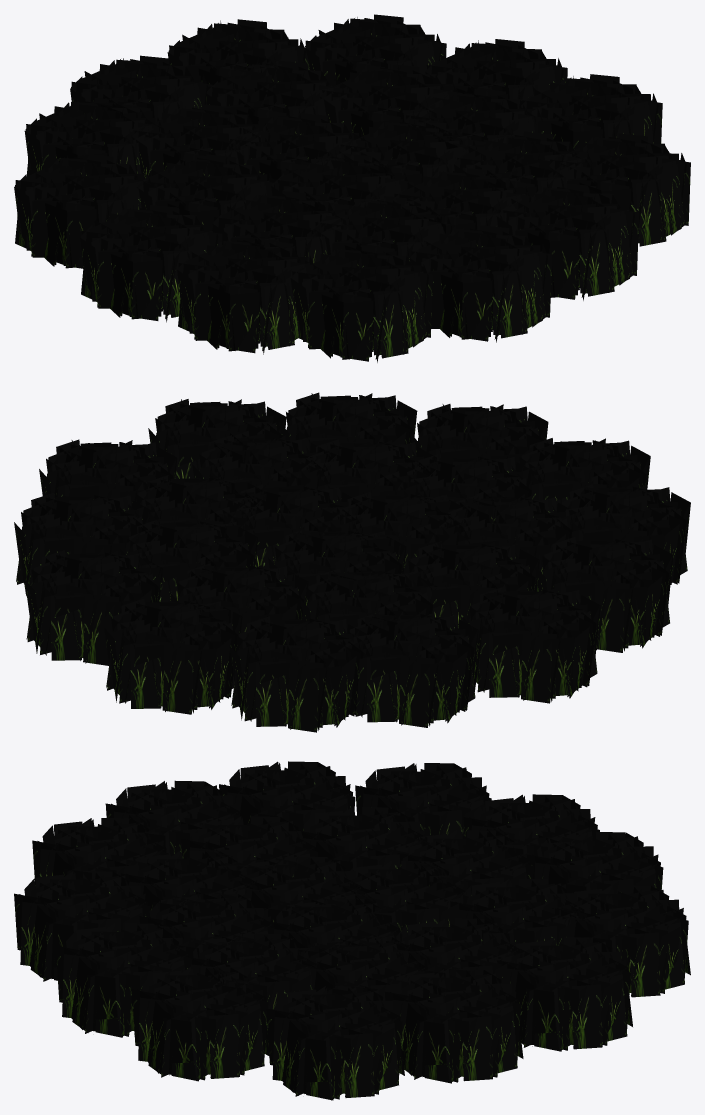
The model's file is MedGrass5m.dae.
The picture shows the model from 3 angles, top to bottom: view 1: azimuth 30°, elevation 25°; view 2: azimuth 150°, elevation 25°; view 3: azimuth 270°, elevation 25°; orthographic projection. The views are drawn at different scales.
Visible parts, largest first — view 1: Med_Patch_5m_hi; view 2: Med_Patch_5m_hi; view 3: Med_Patch_5m_hi.
Boxes of the visible parts, x1,y1,x2,y2 form: Med_Patch_5m_hi: [14, 14, 690, 362]; Med_Patch_5m_hi: [14, 392, 690, 732]; Med_Patch_5m_hi: [14, 761, 690, 1100].
Size of the model in its own units: 4.47 by 4.57 by 0.4478.
Materials: 1 (1 with a texture image).
